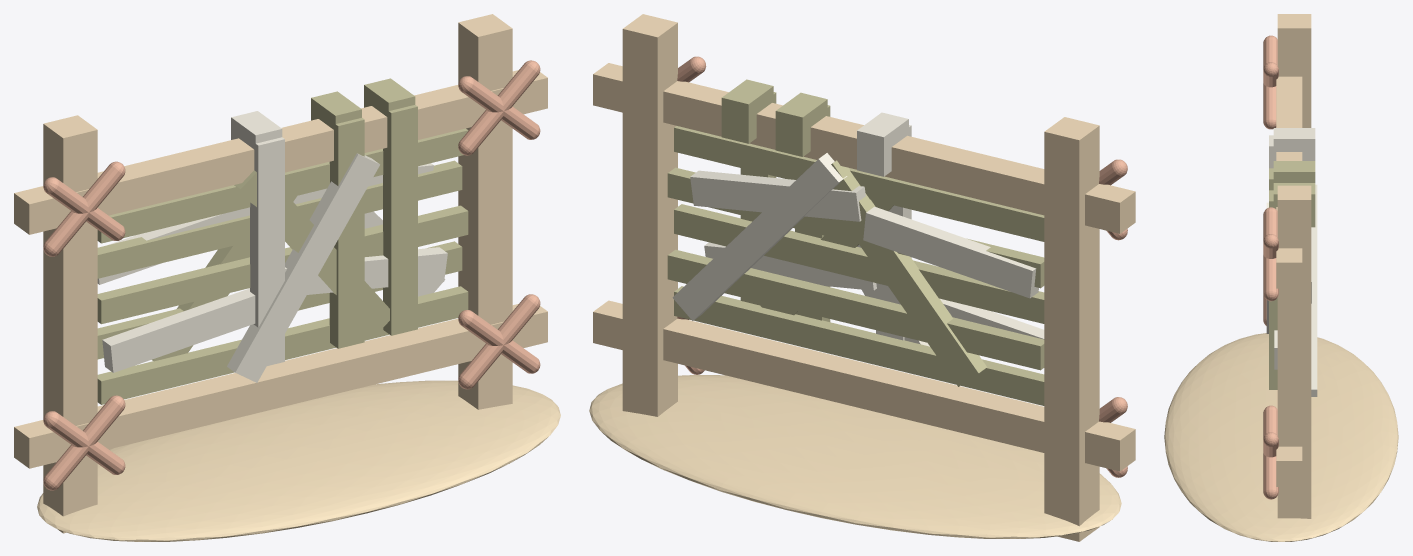
Rendered from palm_fence.glb.
3 views of the same model, side by side, from view 1: azimuth 30°, elevation 25°; view 2: azimuth 150°, elevation 25°; view 3: azimuth 270°, elevation 25° (orthographic). The views are drawn at different scales.
Visible parts, largest first — view 1: Sand, Rail_Btm, Post_L, Rail_Top, Post_R, Diag_3, Vert_2, Weft_0, Weft_2, Weft_3, Weft_4, Vert_0 (+18 smaller); view 2: Sand, Post_L, Rail_Btm, Post_R, Rail_Top, Weft_0, Weft_1, Weft_4, Weft_2, Diag_2, Diag_1, Wave_1a (+7 smaller); view 3: Sand, Post_R, Rail_Top, Post_L, Diag_2, Rail_Btm, Vert_0_hook, RopeB_RT, RopeB_RB, RopeB_LT, Vert_1_hook, Vert_2 (+4 smaller).
Part boxes in pixels (x1,y1,x2,y2): Sand: [37, 380, 560, 541]; Rail_Btm: [14, 304, 547, 468]; Post_L: [43, 115, 97, 533]; Rail_Top: [14, 70, 547, 234]; Post_R: [458, 14, 512, 409]; Diag_3: [227, 153, 379, 382]; Vert_2: [383, 105, 417, 335]; Weft_0: [97, 286, 468, 404]; Weft_2: [97, 205, 468, 324]; Weft_3: [97, 160, 462, 278]; Weft_4: [97, 128, 468, 243]; Vert_0: [250, 137, 284, 365]; Sand: [589, 375, 1121, 538]; Post_L: [1044, 117, 1099, 541]; Rail_Btm: [593, 300, 1135, 471]; Post_R: [622, 14, 677, 416]; Rail_Top: [593, 63, 1135, 233]; Weft_0: [674, 286, 1044, 405]; Weft_1: [667, 249, 1044, 370]; Weft_4: [674, 126, 1044, 241]; Weft_2: [674, 204, 1044, 323]; Diag_2: [672, 153, 847, 320]; Diag_1: [831, 160, 986, 386]; Wave_1a: [863, 206, 1038, 298]; Sand: [1164, 333, 1398, 541]; Post_R: [1277, 185, 1311, 518]; Rail_Top: [1276, 76, 1302, 288]; Post_L: [1277, 14, 1311, 127]; Diag_2: [1311, 184, 1317, 396]; Rail_Btm: [1276, 390, 1302, 486]; Vert_0_hook: [1273, 128, 1315, 160]; RopeB_RT: [1263, 207, 1278, 301]; RopeB_RB: [1263, 405, 1278, 499]; RopeB_LT: [1263, 35, 1277, 129]; Vert_1_hook: [1273, 161, 1315, 182]; Vert_2: [1269, 190, 1277, 389].
Bounding box in the file's own units: 1.98 × 1.42 × 0.9.
